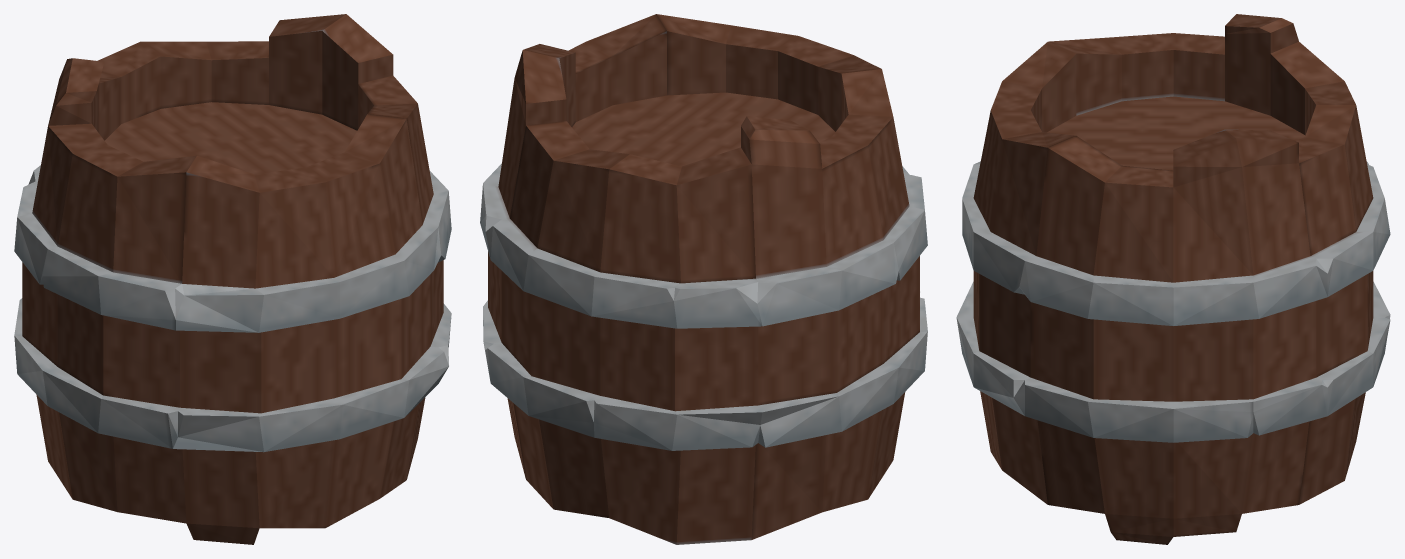
Rendered from wooden_barrel.dae.
3 renders of one model, left to right at view 1: azimuth 30°, elevation 25°; view 2: azimuth 150°, elevation 25°; view 3: azimuth 270°, elevation 25°, orthographic. The views are drawn at different scales.
Visible parts, largest first — view 1: wooden_barrel; view 2: wooden_barrel; view 3: wooden_barrel.
Part boxes in pixels (left/top/right/bottom): wooden_barrel: left=14, top=14, right=451, bottom=544; wooden_barrel: left=480, top=14, right=927, bottom=544; wooden_barrel: left=956, top=14, right=1390, bottom=544.
Size of the model in its own units: 4.75 by 4.75 by 4.88.
